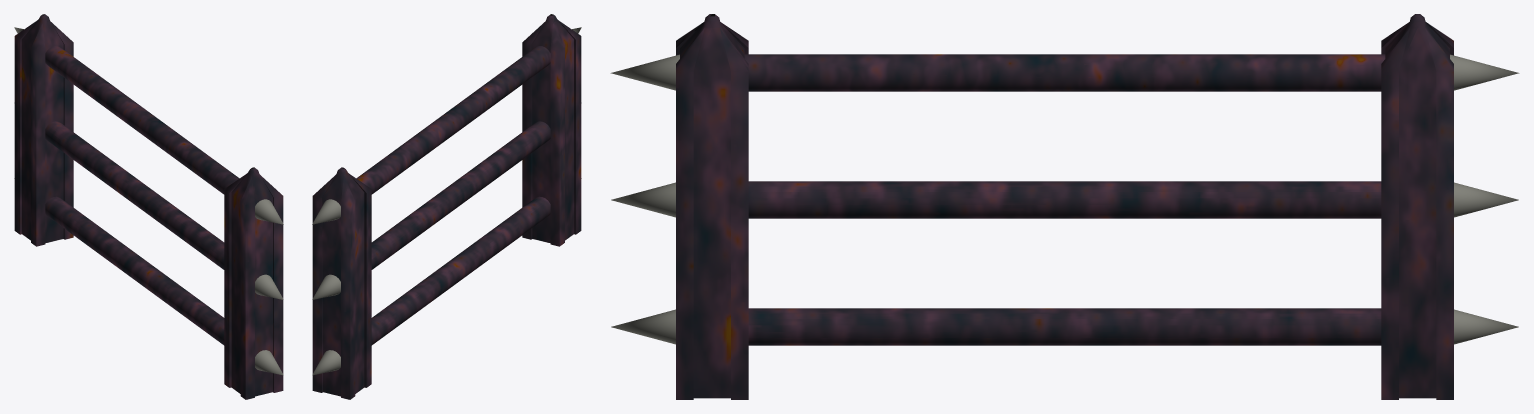
Rendered from CA_015_iron_ladder_var1.glb.
The picture shows the model from 3 angles, left to right: view 1: azimuth 30°, elevation 25°; view 2: azimuth 150°, elevation 25°; view 3: azimuth 270°, elevation 25°; orthographic projection. The views are drawn at different scales.
Visible parts, largest first — view 1: ladder_support, ladder_bars, spikes; view 2: ladder_support, ladder_bars, spikes; view 3: ladder_bars, ladder_support, spikes.
Part boxes in pixels (left/top/right/bottom): ladder_support: left=14, top=14, right=283, bottom=399; ladder_bars: left=45, top=46, right=239, bottom=345; spikes: left=14, top=27, right=283, bottom=375; ladder_support: left=312, top=14, right=581, bottom=399; ladder_bars: left=356, top=46, right=550, bottom=345; spikes: left=312, top=27, right=581, bottom=375; ladder_bars: left=744, top=54, right=1385, bottom=345; ladder_support: left=676, top=14, right=1453, bottom=399; spikes: left=610, top=54, right=1519, bottom=344.
Bounding box in the file's own units: 0.18 × 1.01 × 2.25.
2 materials, 1 textured.
